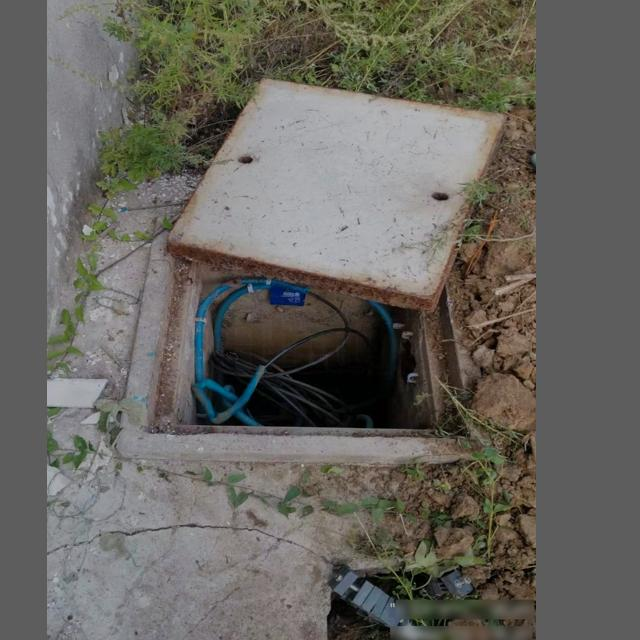uncovered: (112, 77, 510, 462)
